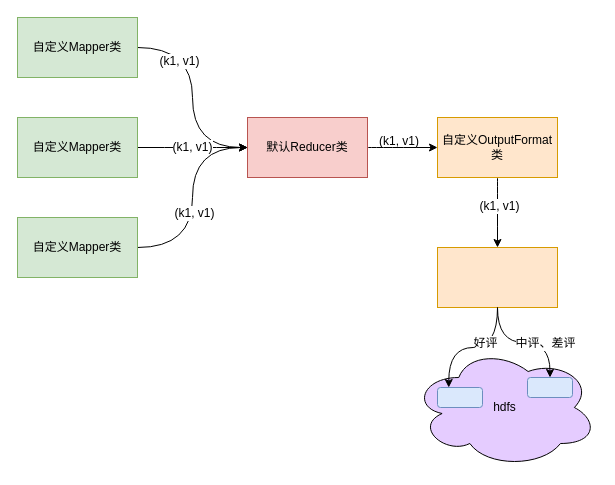
This 615x485 diagram has some shape labels left out. Each missing label, with the centre of its shape:
bad: point 549,387
good: point 459,397
自定义RecordWriter类: point 497,277
